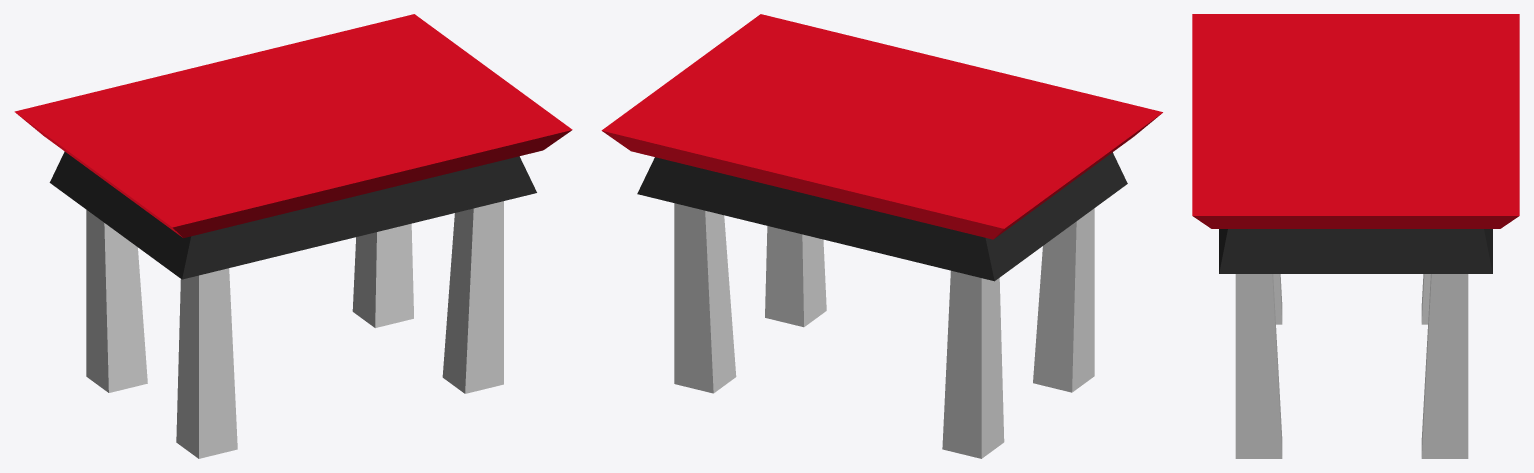
The model's file is Table.fbx.
The picture shows the model from 3 angles, left to right: view 1: azimuth 30°, elevation 25°; view 2: azimuth 150°, elevation 25°; view 3: azimuth 270°, elevation 25°; orthographic projection. The views are drawn at different scales.
Visible parts, largest first — view 1: Cube.001, Cube.001_cell.001, Cube.001_cell, Cube.001_cell.002; view 2: Cube.001, Cube.001_cell.001, Cube.001_cell, Cube.001_cell.002; view 3: Cube.001, Cube.001_cell.001, Cube.001_cell.002, Cube.001_cell.
Boxes of the visible parts, x1=… form: Cube.001: x1=16, y1=32, x2=572, y2=458; Cube.001_cell.001: x1=14, y1=14, x2=438, y2=392; Cube.001_cell: x1=66, y1=117, x2=433, y2=458; Cube.001_cell.002: x1=313, y1=33, x2=571, y2=393; Cube.001: x1=602, y1=14, x2=1162, y2=458; Cube.001_cell.001: x1=602, y1=112, x2=1053, y2=458; Cube.001_cell: x1=1028, y1=120, x2=1153, y2=392; Cube.001_cell.002: x1=721, y1=14, x2=869, y2=314; Cube.001: x1=1192, y1=14, x2=1518, y2=458; Cube.001_cell.001: x1=1356, y1=14, x2=1519, y2=458; Cube.001_cell.002: x1=1192, y1=137, x2=1468, y2=458; Cube.001_cell: x1=1192, y1=14, x2=1405, y2=324.
Size of the model in its own units: 1692 by 1043 by 1159.
